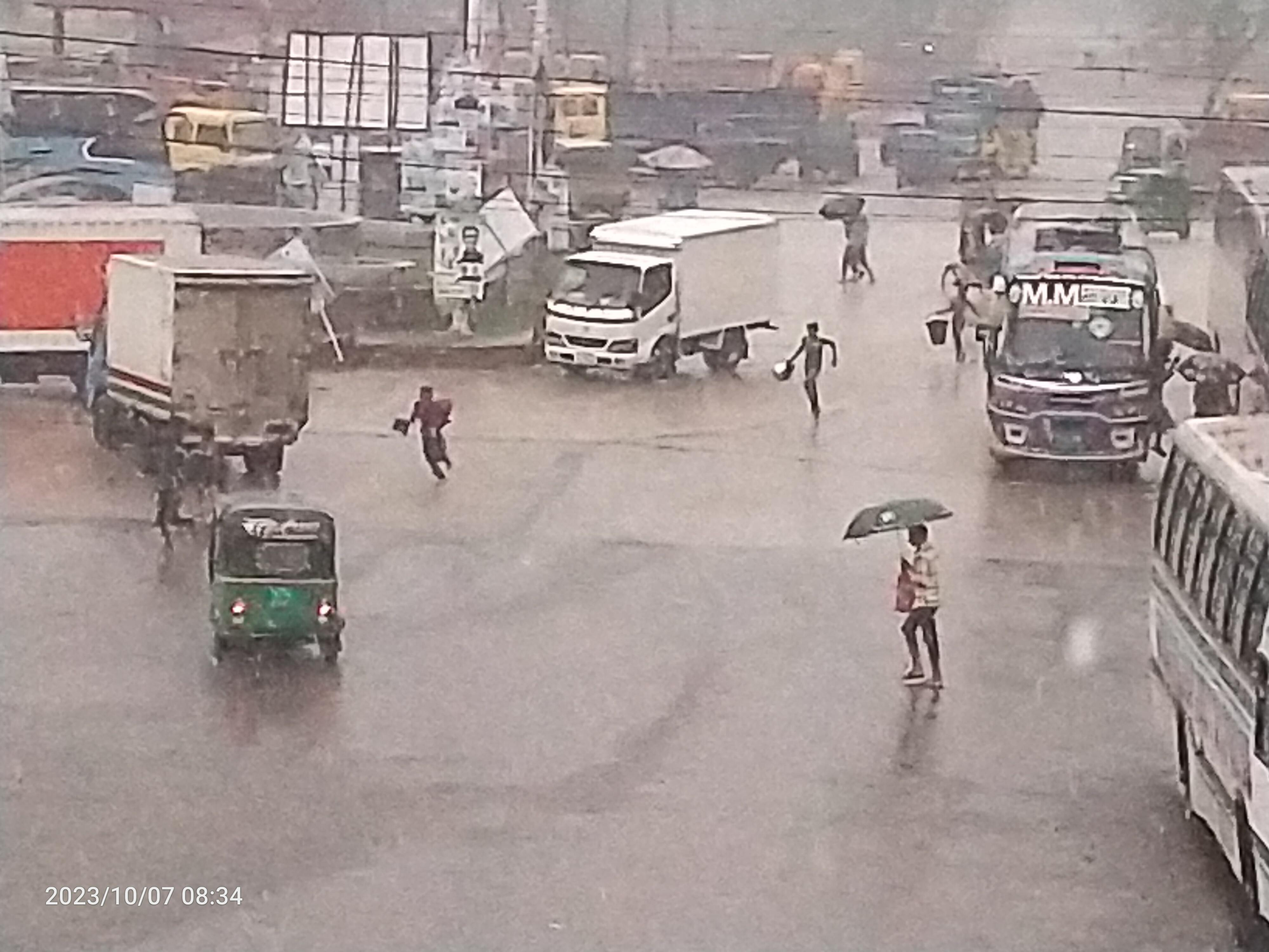Bus: (1122, 379, 1269, 949), (944, 198, 1192, 491), (0, 60, 196, 216)
Truck: (59, 228, 325, 517), (515, 176, 838, 402), (521, 54, 828, 201), (153, 68, 299, 207)
